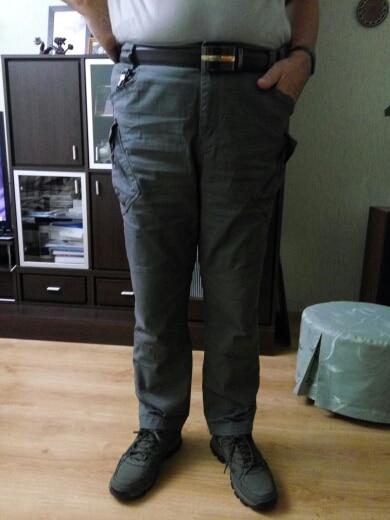pants: (110, 47, 298, 437)
